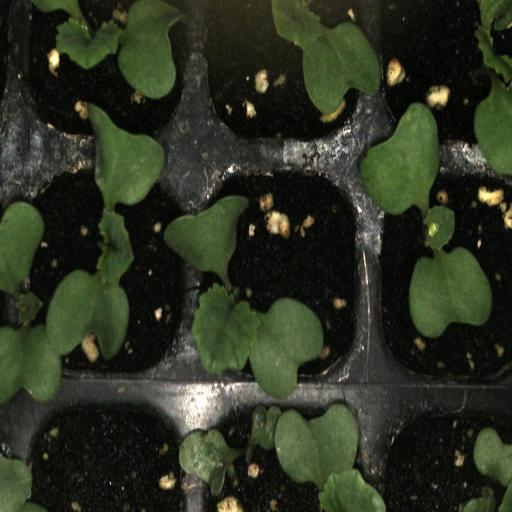seedling: (196, 161, 370, 393), (371, 160, 512, 395), (16, 0, 193, 157)
twoseedling: (10, 158, 192, 392), (195, 388, 376, 512)
